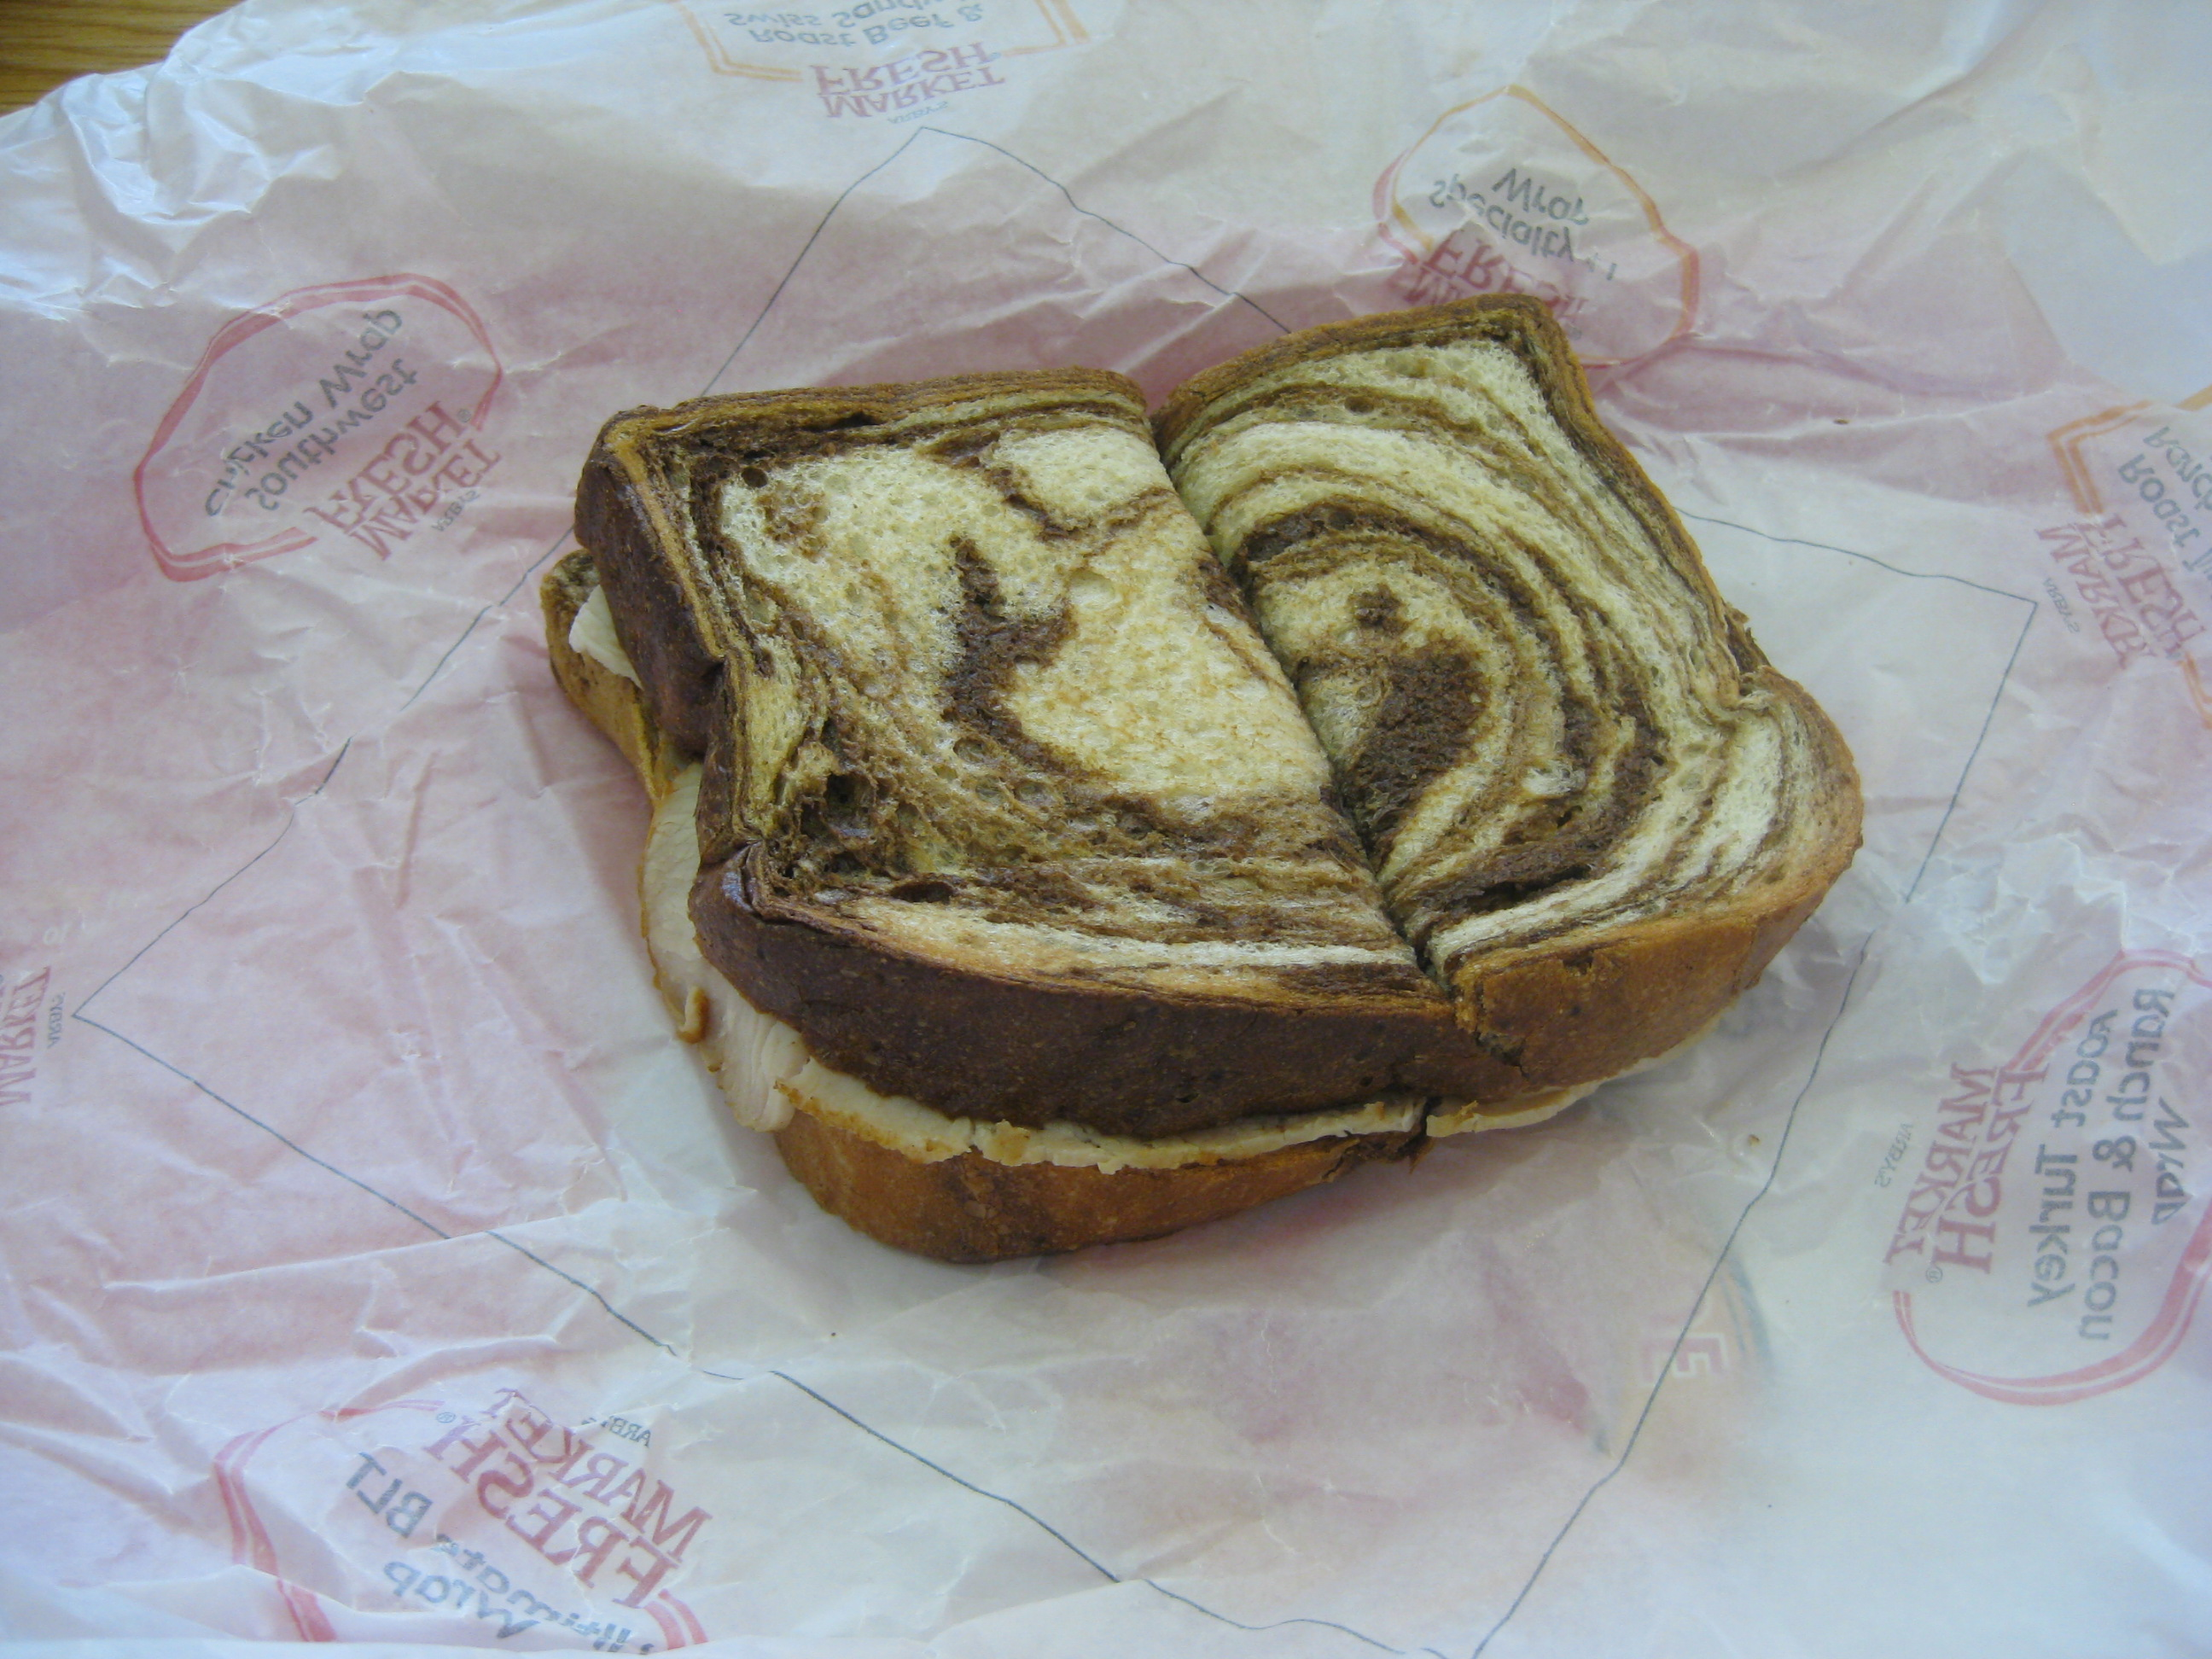sandwich: (507, 285, 1947, 1318)
